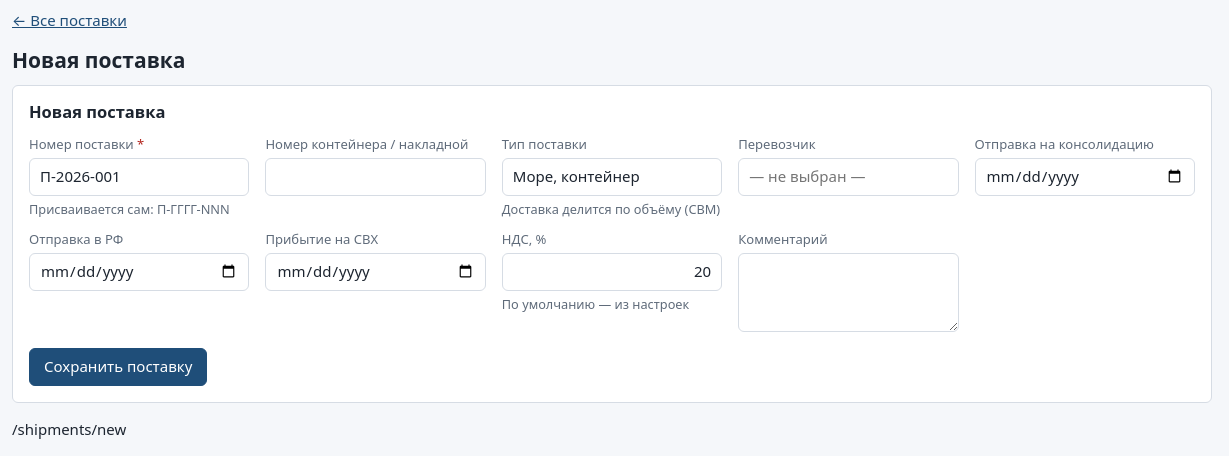
Scenario: список и создание поставки › пустой номер — ошибка у поля, ничего не записано
The width and height of the screenshot is (1229, 456).
Clear the field labelled "Номер поставки *" at x=139, y=176, box left=29, top=158, right=249, bottom=196
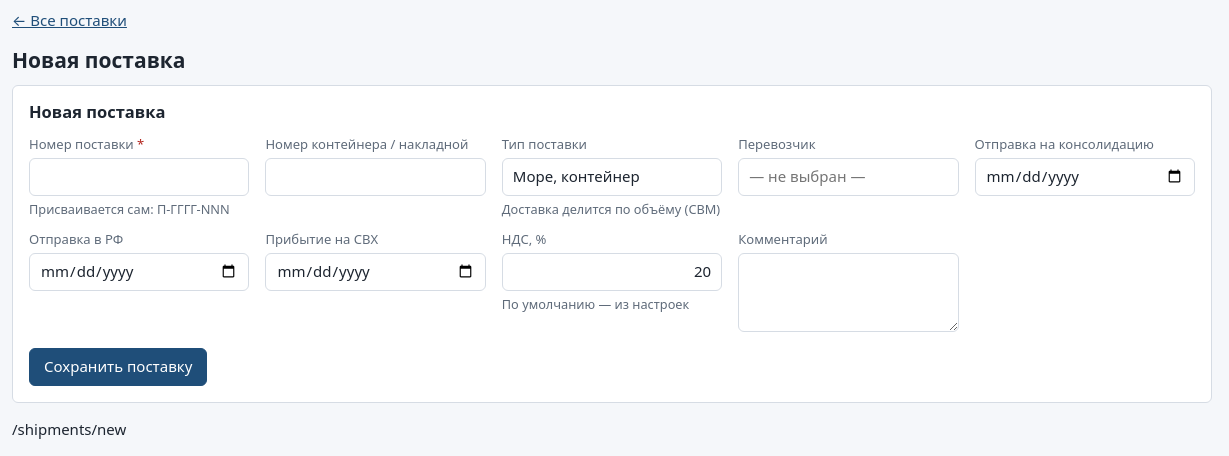
Click the button "Сохранить поставку" at x=118, y=367, box left=29, top=348, right=207, bottom=386
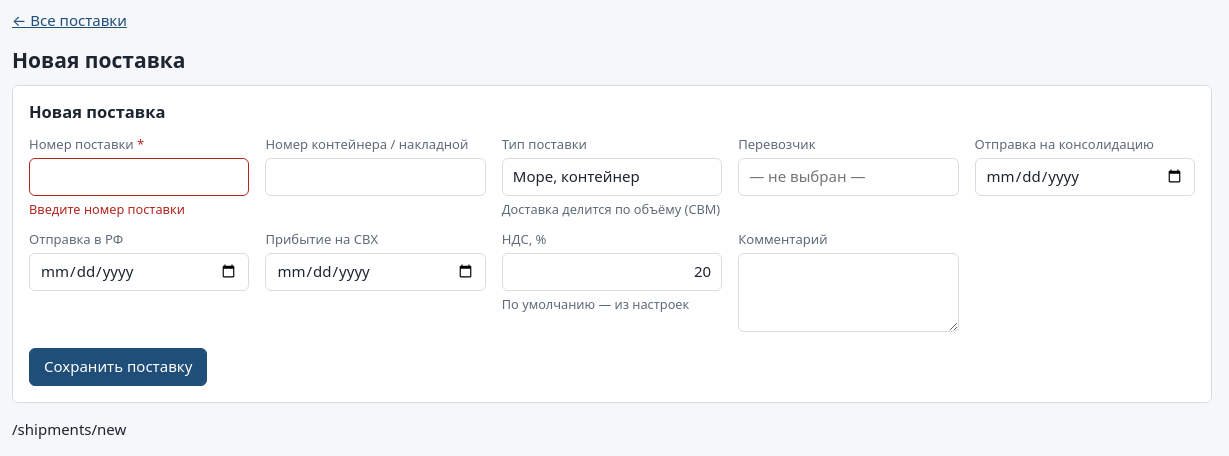
Check: the text "Введите номер поставки" is shown, box left=29, top=200, right=185, bottom=218
